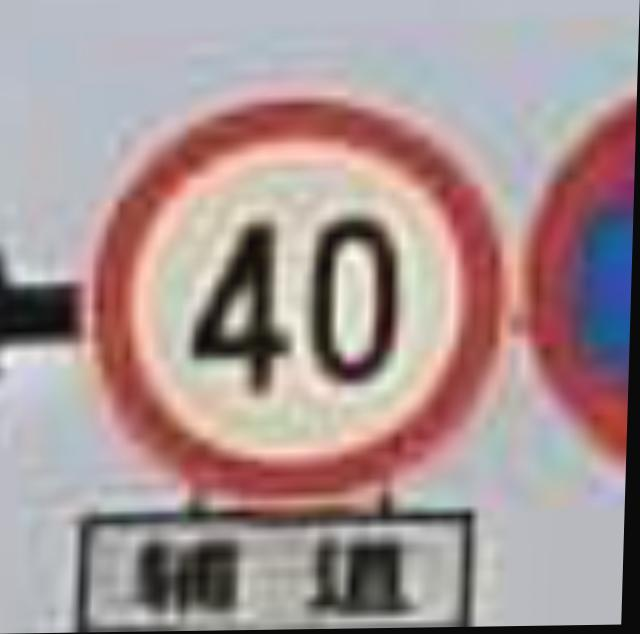limit40: (90, 71, 510, 502)
